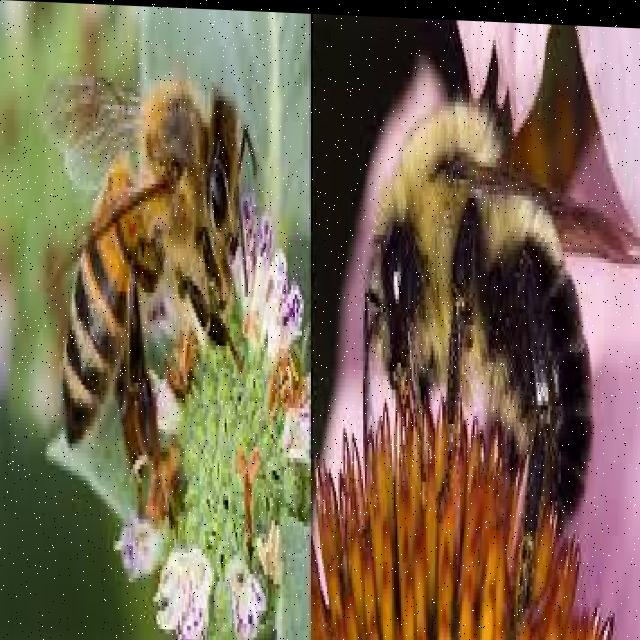Apis-mellifera-scutellata: (45, 42, 266, 481)
Xylocopa: (324, 32, 618, 584)
